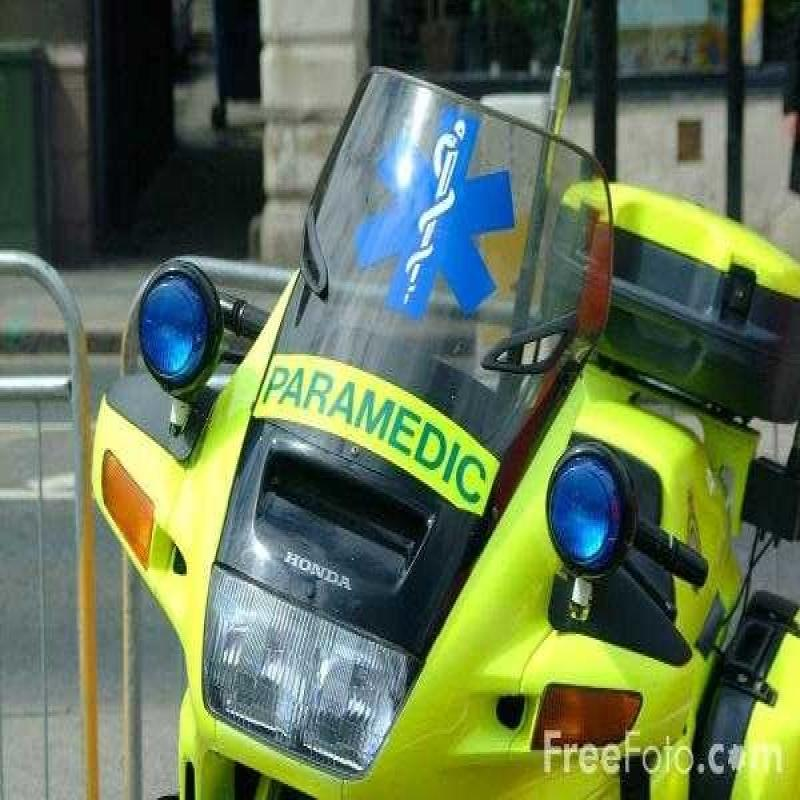AmbulanceSiren: (515, 408, 628, 592), (127, 224, 239, 406)
